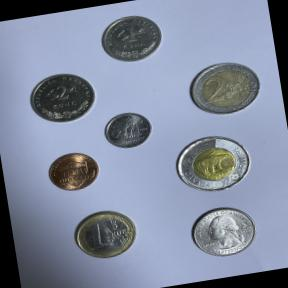coin: (166, 126, 262, 200), (181, 54, 268, 124), (17, 64, 104, 132), (183, 200, 264, 264), (66, 200, 144, 266), (40, 146, 106, 198), (97, 106, 157, 155)
